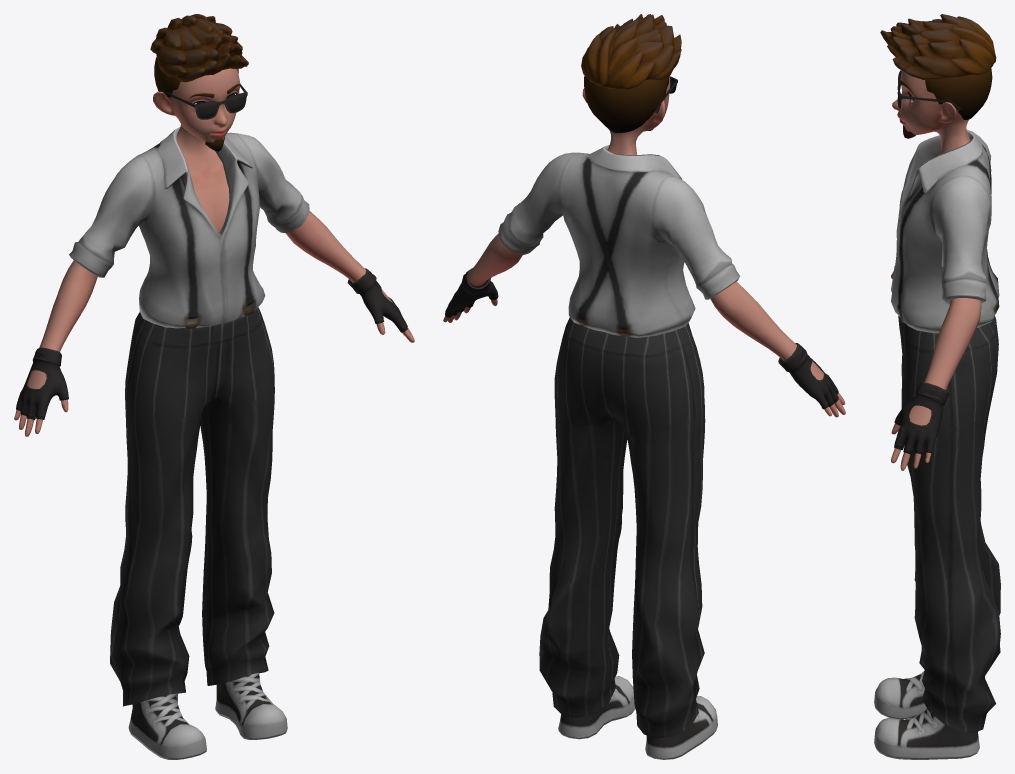
The model's file is StaffTeenageBoy_Mesh.obj.
3 views of the same model, side by side, from view 1: azimuth 30°, elevation 25°; view 2: azimuth 150°, elevation 25°; view 3: azimuth 270°, elevation 25° (orthographic).
Parts seen in each view (by area): view 1: StaffTeenageBoy_Mesh_0; view 2: StaffTeenageBoy_Mesh_0; view 3: StaffTeenageBoy_Mesh_0.
Boxes of the visible parts, bbox=[...] form: StaffTeenageBoy_Mesh_0: bbox=[14, 14, 414, 759]; StaffTeenageBoy_Mesh_0: bbox=[443, 14, 845, 759]; StaffTeenageBoy_Mesh_0: bbox=[874, 14, 1000, 759].
Bounding box in the file's own units: 1.06 × 1.84 × 0.2966.
1 material, 1 textured.
